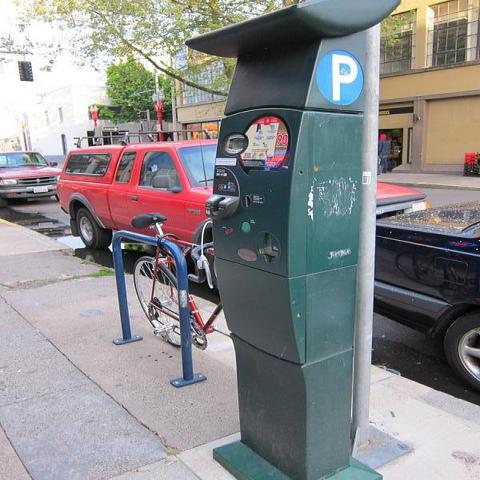car: (54, 136, 432, 293), (372, 196, 479, 392), (0, 152, 62, 196)
truck: (55, 137, 432, 250)
